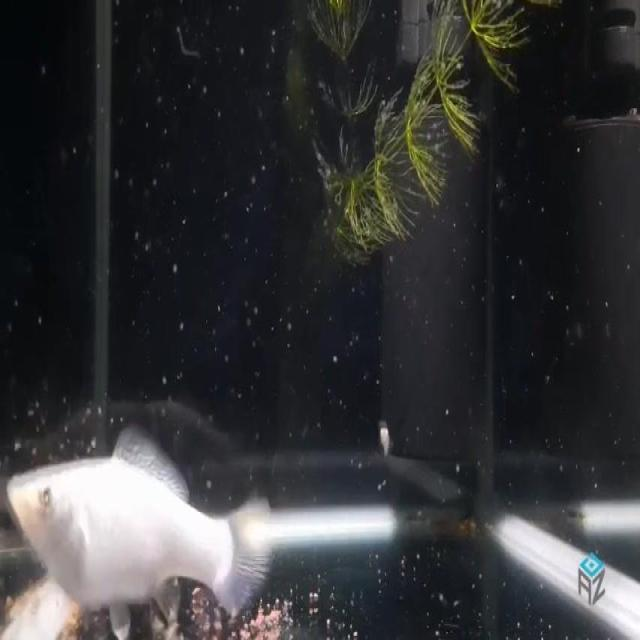PlatyFish: (3, 404, 280, 640)
